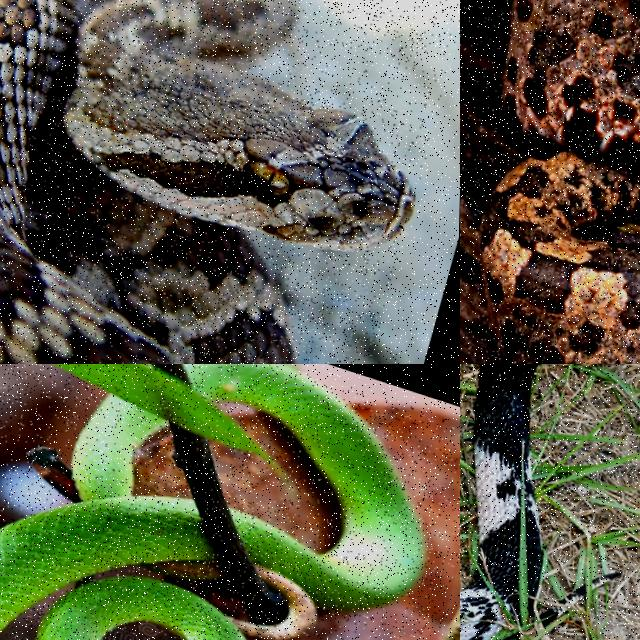Daboia siamensis: (0, 0, 412, 363)
Naja kaouthia: (460, 364, 541, 639)
Ovophis monticola: (480, 0, 639, 363)
Trimeresurus: (185, 364, 423, 610)
